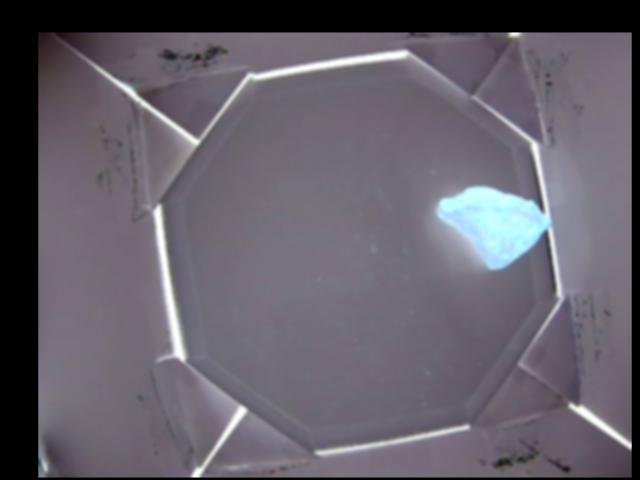Brisk: (438, 184, 551, 268)
